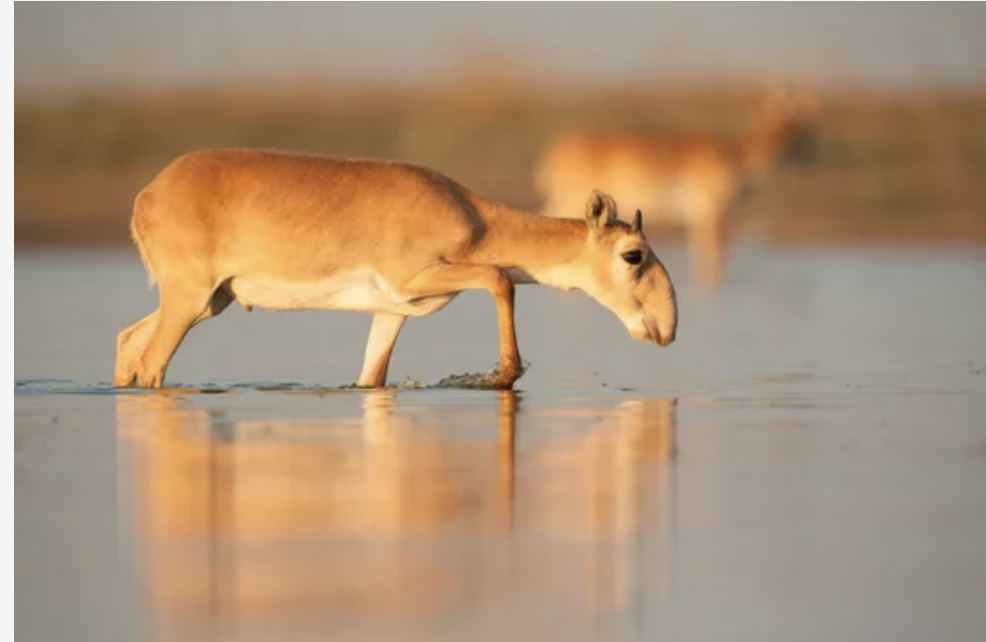saiga: (106, 130, 687, 408)
